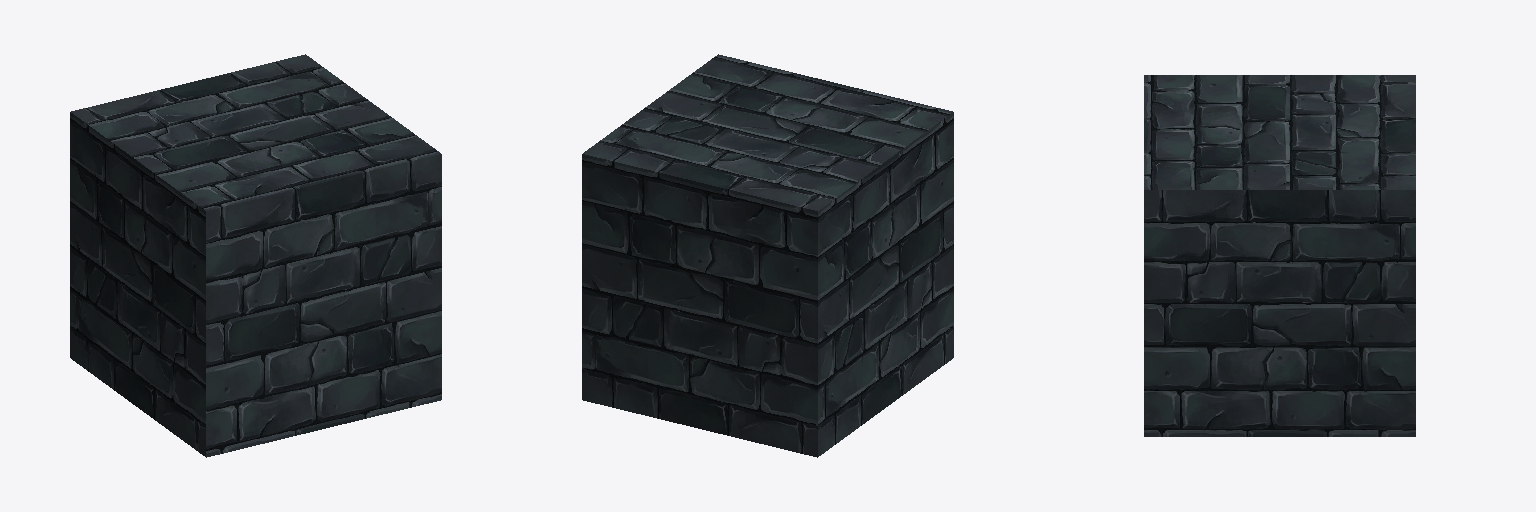
The picture shows the model from 3 angles: view 1: azimuth 30°, elevation 25°; view 2: azimuth 150°, elevation 25°; view 3: azimuth 270°, elevation 25°; orthographic projection.
Parts seen in each view (by area): view 1: Cube; view 2: Cube; view 3: Cube.
Part boxes in pixels (bbox=[...]): Cube: bbox=[70, 54, 441, 457]; Cube: bbox=[582, 54, 953, 457]; Cube: bbox=[1144, 75, 1415, 436].
Size of the model in its own units: 10.57 by 10.57 by 10.57.
Materials: 1 (1 with a texture image).